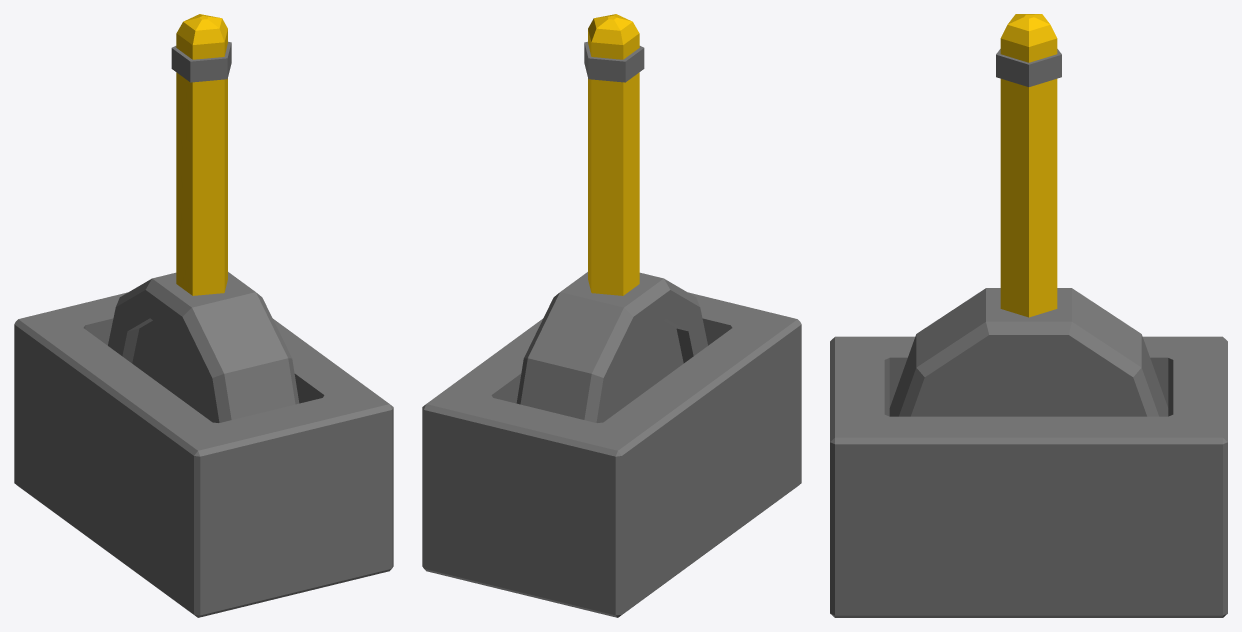
The model's file is HJD_FP_lever00.fbx.
3 renders of one model, left to right at view 1: azimuth 30°, elevation 25°; view 2: azimuth 150°, elevation 25°; view 3: azimuth 270°, elevation 25°, orthographic. The views are drawn at different scales.
Visible parts, largest first — view 1: transform_unity_scale17; view 2: transform_unity_scale17; view 3: transform_unity_scale17.
Part boxes in pixels (x1,y1,x2,y2): transform_unity_scale17: (14, 14, 393, 617); transform_unity_scale17: (422, 14, 801, 617); transform_unity_scale17: (830, 14, 1227, 617).
Bounding box in the file's own units: 50 × 122 × 80.
